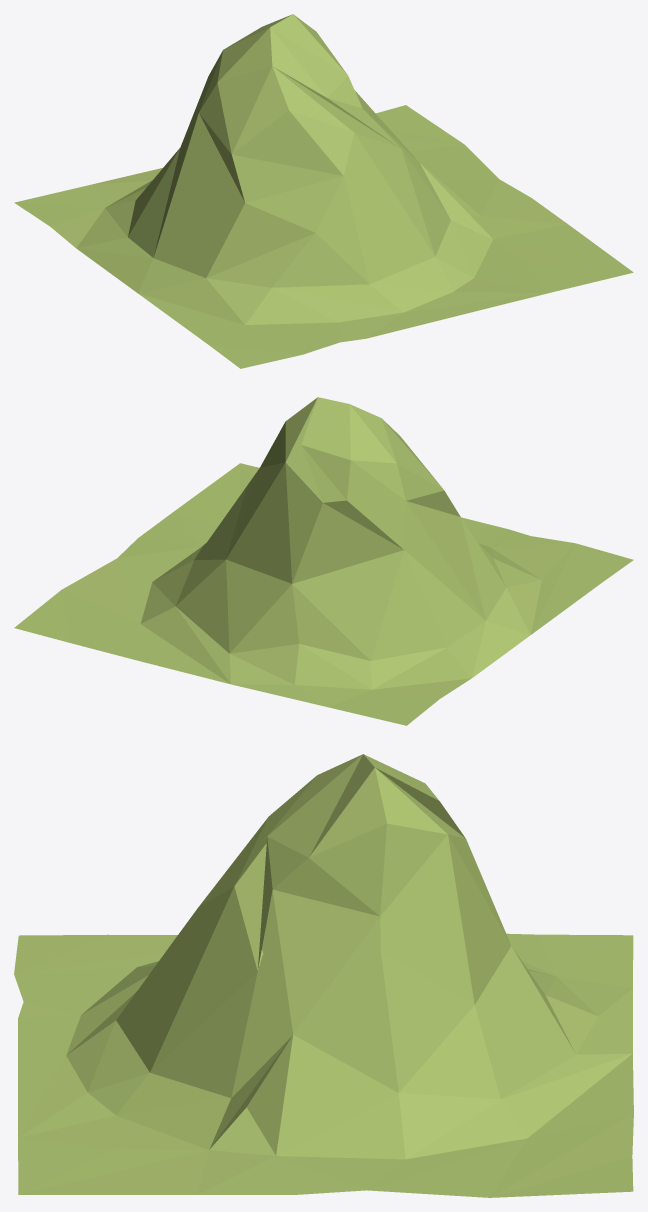
Rendered from landscape.09.fbx.
3 views of the same model, one above another, from view 1: azimuth 30°, elevation 25°; view 2: azimuth 150°, elevation 25°; view 3: azimuth 270°, elevation 25° (orthographic). The views are drawn at different scales.
Visible parts, largest first — view 1: landscape.09; view 2: landscape.09; view 3: landscape.09.
Boxes of the visible parts, x1=… form: landscape.09: x1=14, y1=14, x2=633, y2=368; landscape.09: x1=14, y1=397, x2=633, y2=725; landscape.09: x1=14, y1=754, x2=633, y2=1197.
Size of the model in its own units: 3410 by 1757 by 3386.
